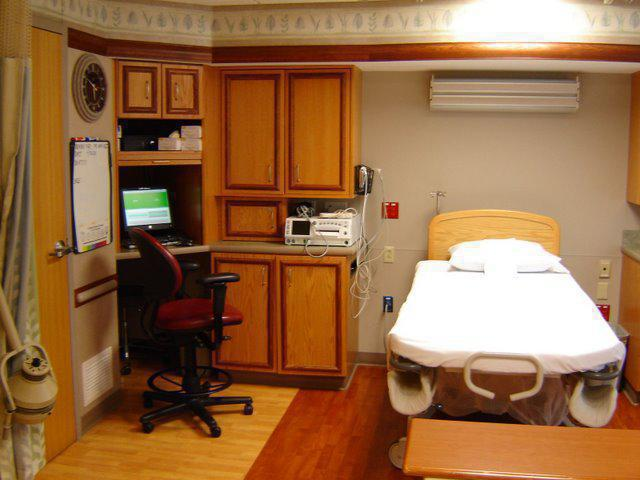Armario: (212, 66, 346, 377)
Cama: (404, 198, 630, 424)
